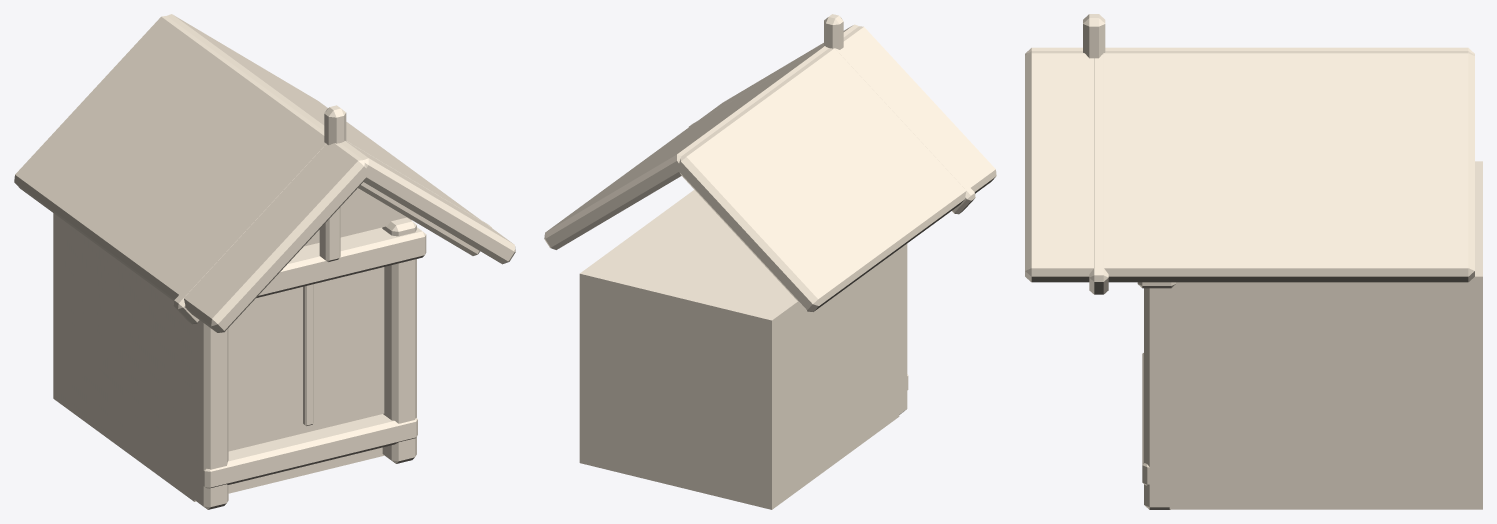
Rendered from SM_VK_Roof_Dormer.fbx.
3 renders of one model, left to right at view 1: azimuth 30°, elevation 25°; view 2: azimuth 150°, elevation 25°; view 3: azimuth 270°, elevation 25°, orthographic. The views are drawn at different scales.
Visible parts, largest first — view 1: SM_VK_Roof_Dormer.001; view 2: SM_VK_Roof_Dormer.001; view 3: SM_VK_Roof_Dormer.001.
Part boxes in pixels (x1,y1,x2,y2): SM_VK_Roof_Dormer.001: [14, 14, 515, 509]; SM_VK_Roof_Dormer.001: [544, 14, 996, 509]; SM_VK_Roof_Dormer.001: [1025, 14, 1482, 509].
Bounding box in the file's own units: 2.51 × 3.01 × 2.85.
